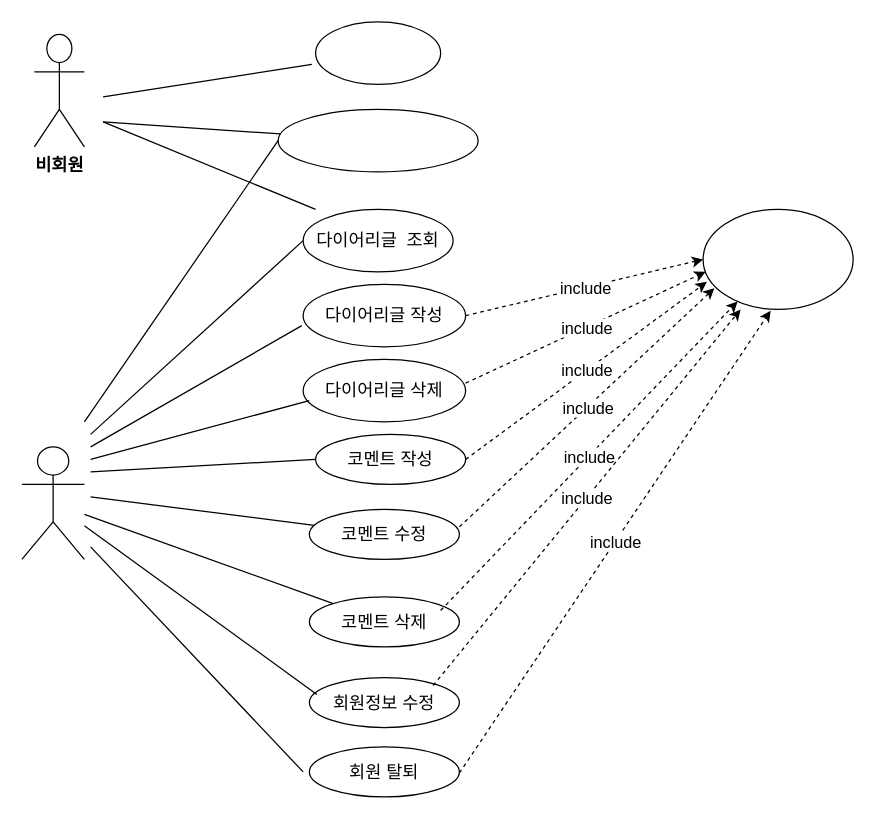
Some shapes in this 875 by 819 pixel diagram are drawn without their labels. The shapes that lost their labels are listed below. From the top down, each one's box as (x1, y1, x2, y2) in pixels, then its label:
(314, 21, 441, 84): 회원가입
(277, 108, 478, 172): 다이어리글 목록 보기
(702, 208, 853, 309): 로그인
(21, 446, 84, 559): 회원
